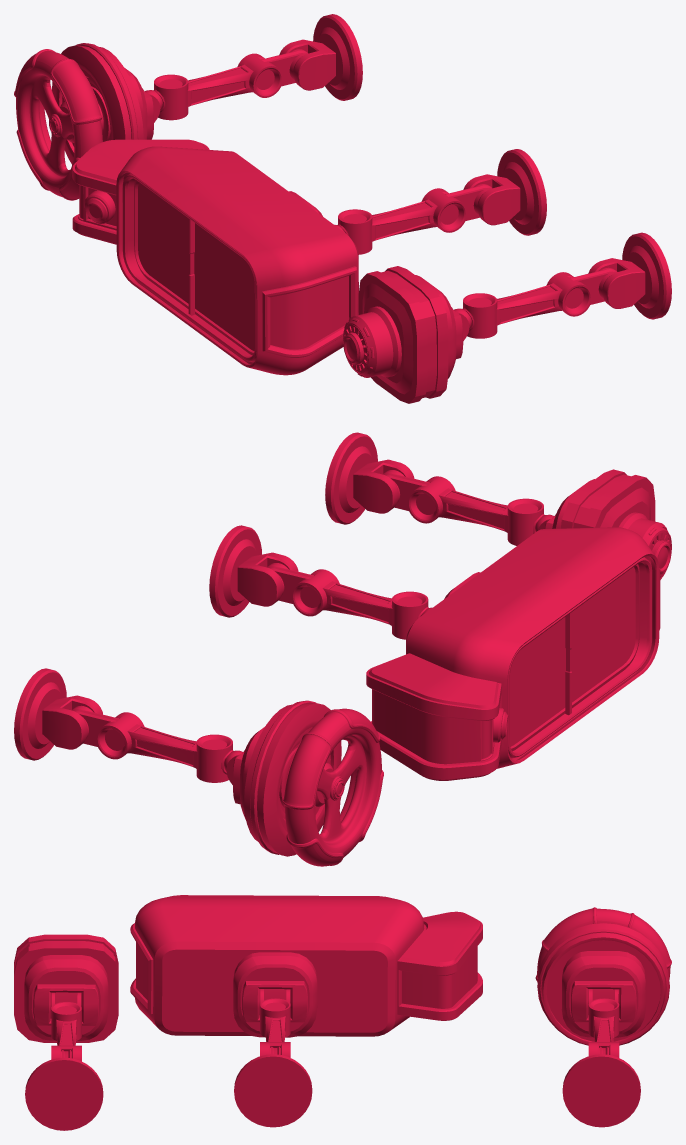
The model's file is ArmatureObjects.fbx.
The picture shows the model from 3 angles, top to bottom: view 1: azimuth 30°, elevation 25°; view 2: azimuth 150°, elevation 25°; view 3: azimuth 270°, elevation 25°; orthographic projection. The views are drawn at different scales.
Parts seen in each view (by area): view 1: Cube.016, Volante_MK3.001, Cube.019, Cylinder.009, Cylinder.008, Cylinder.039, Cylinder.015, Cylinder.021, Cylinder.007, Cylinder.016, Cylinder.034, Cube.017 (+8 smaller); view 2: Cube.016, Volante_MK3.001, Cylinder.009, Cylinder.039, Cylinder.008, Cylinder.015, Cube.019, Cylinder.034, Cylinder.007, Cylinder.016, Cube.017, Cube.002 (+7 smaller); view 3: Cube.016, Cylinder.009, Cube.008, Cube.001, Cube.015, Cylinder.016, Cylinder.034, Cylinder.007, Cube.019, Volante_MK3.001, Cylinder.039, Cylinder.008 (+1 smaller).
Part boxes in pixels (bbox=[...]): Cube.016: bbox=[72, 139, 358, 375]; Volante_MK3.001: bbox=[14, 49, 102, 200]; Cube.019: bbox=[358, 266, 448, 403]; Cylinder.009: bbox=[52, 43, 143, 164]; Cylinder.008: bbox=[462, 272, 592, 338]; Cylinder.039: bbox=[153, 53, 282, 120]; Cylinder.015: bbox=[337, 188, 467, 254]; Cylinder.021: bbox=[343, 306, 401, 377]; Cylinder.007: bbox=[622, 232, 671, 319]; Cylinder.016: bbox=[497, 149, 546, 235]; Cylinder.034: bbox=[313, 14, 362, 100]; Cube.017: bbox=[463, 174, 520, 225]; Cube.016: bbox=[366, 527, 660, 780]; Volante_MK3.001: bbox=[282, 708, 383, 866]; Cylinder.009: bbox=[244, 700, 341, 856]; Cylinder.039: bbox=[96, 712, 233, 782]; Cylinder.008: bbox=[407, 476, 544, 545]; Cylinder.015: bbox=[291, 569, 428, 639]; Cube.019: bbox=[561, 469, 655, 528]; Cylinder.034: bbox=[14, 668, 66, 760]; Cylinder.007: bbox=[325, 432, 377, 524]; Cylinder.016: bbox=[209, 525, 261, 617]; Cube.017: bbox=[237, 552, 298, 606]; Cube.002: bbox=[353, 459, 414, 513]; Cube.016: bbox=[130, 895, 482, 1036]; Cylinder.009: bbox=[537, 923, 669, 1045]; Cube.008: bbox=[561, 951, 645, 1037]; Cube.001: bbox=[24, 955, 108, 1040]; Cube.015: bbox=[233, 952, 317, 1037]; Cylinder.016: bbox=[234, 1054, 312, 1127]; Cylinder.034: bbox=[562, 1054, 640, 1127]; Cylinder.007: bbox=[25, 1057, 103, 1130]; Cube.019: bbox=[14, 934, 118, 1042]; Volante_MK3.001: bbox=[535, 907, 671, 982]; Cylinder.039: bbox=[588, 998, 619, 1057]; Cylinder.008: bbox=[51, 1002, 81, 1061].
Bounding box in the file's own units: 83.77 × 31.07 × 150.
